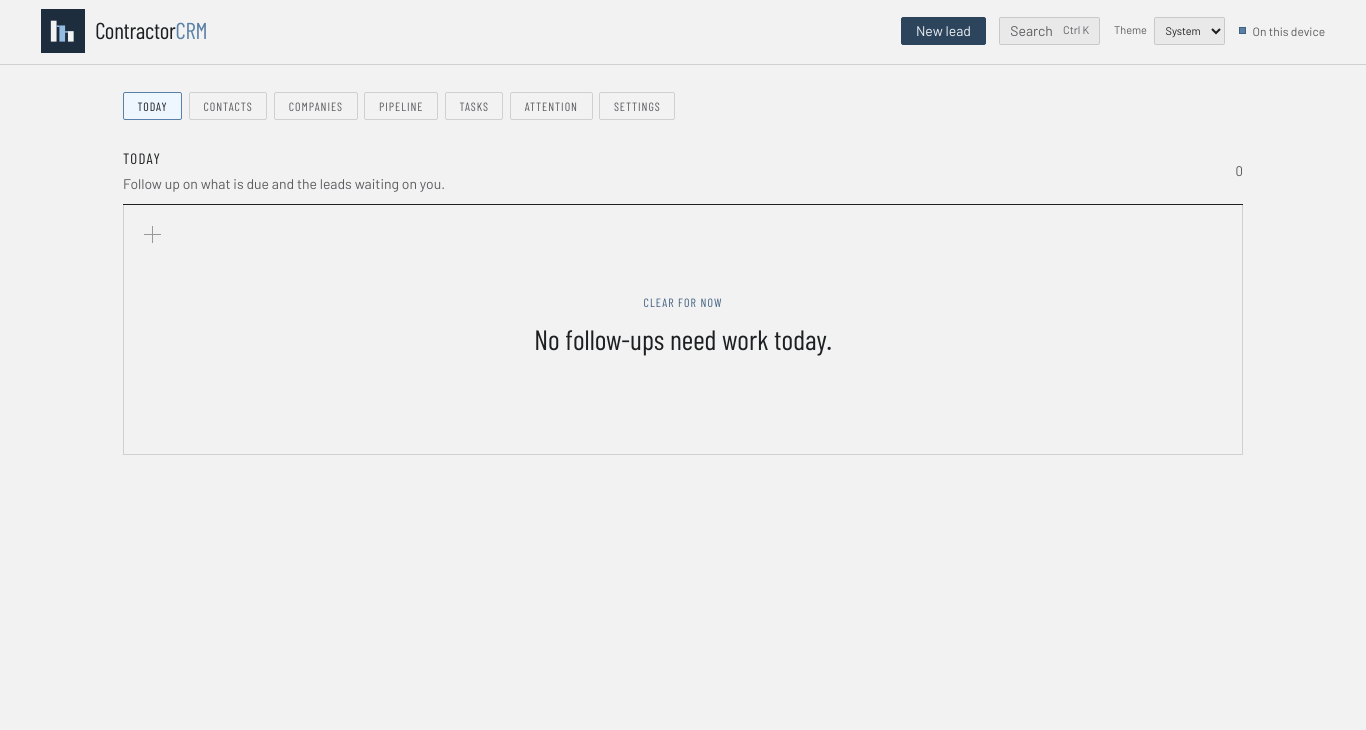
AI assistant settings › clears a stored API key
This screenshot has width=1366, height=730.
Click the button "Settings": (637, 106) [599,92,675,120]
(page scrolled)
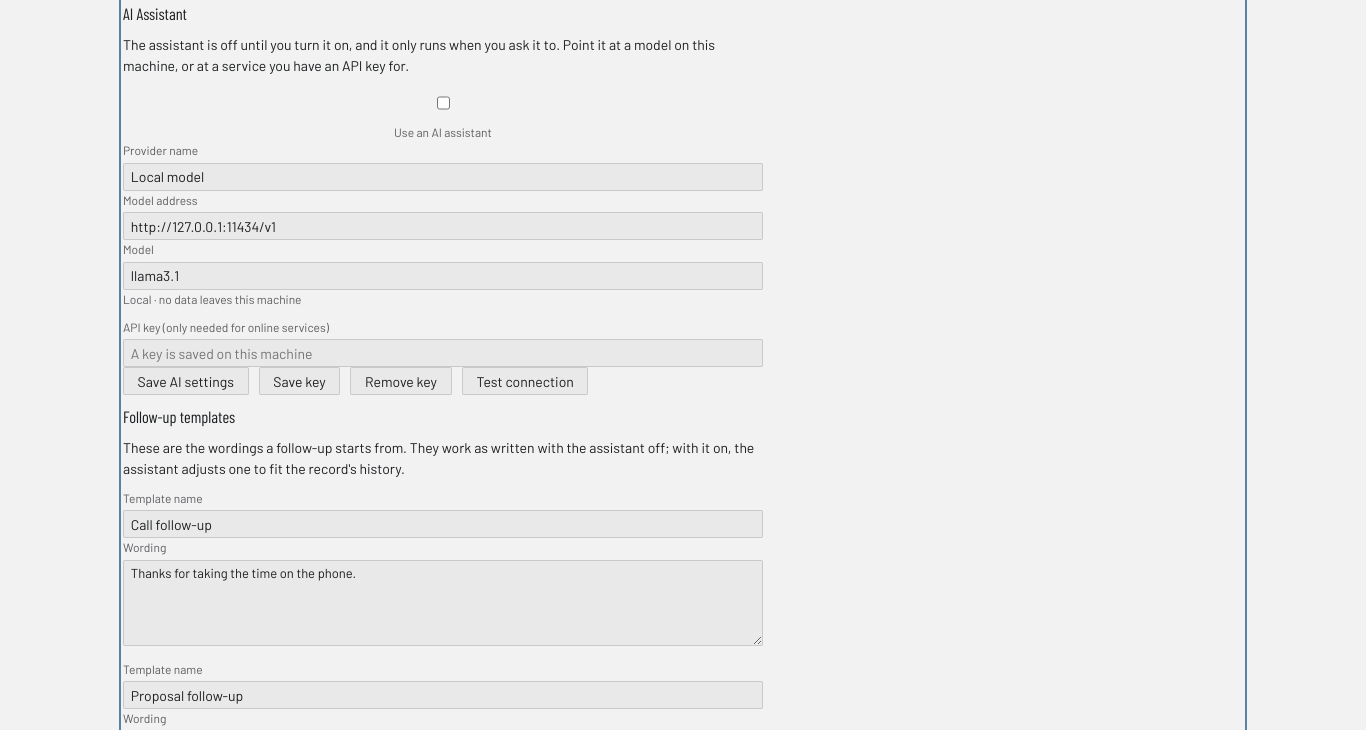
Click the button "Remove key": (401, 381) [350,367,452,395]
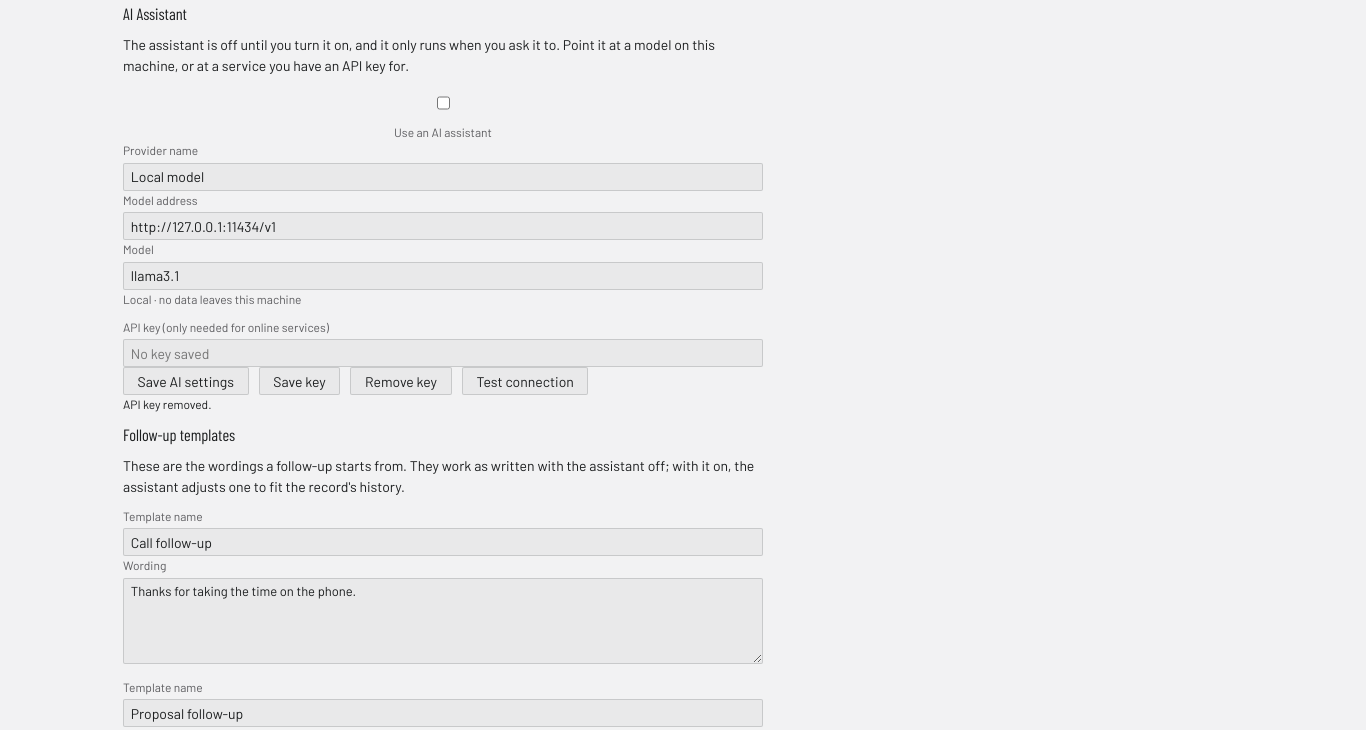
Now the text "API key removed." is shown, box [123,397,212,411]
